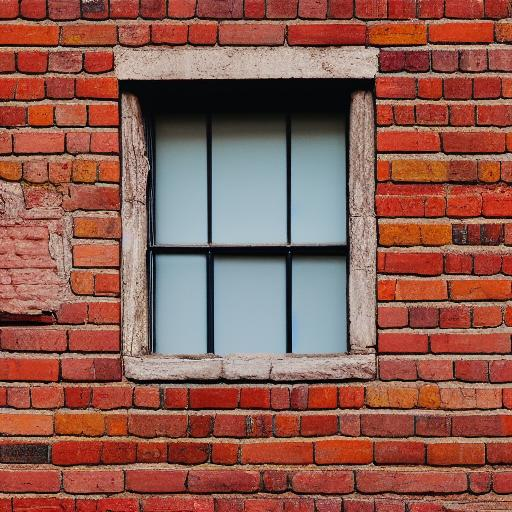Window: (115, 42, 383, 382)
